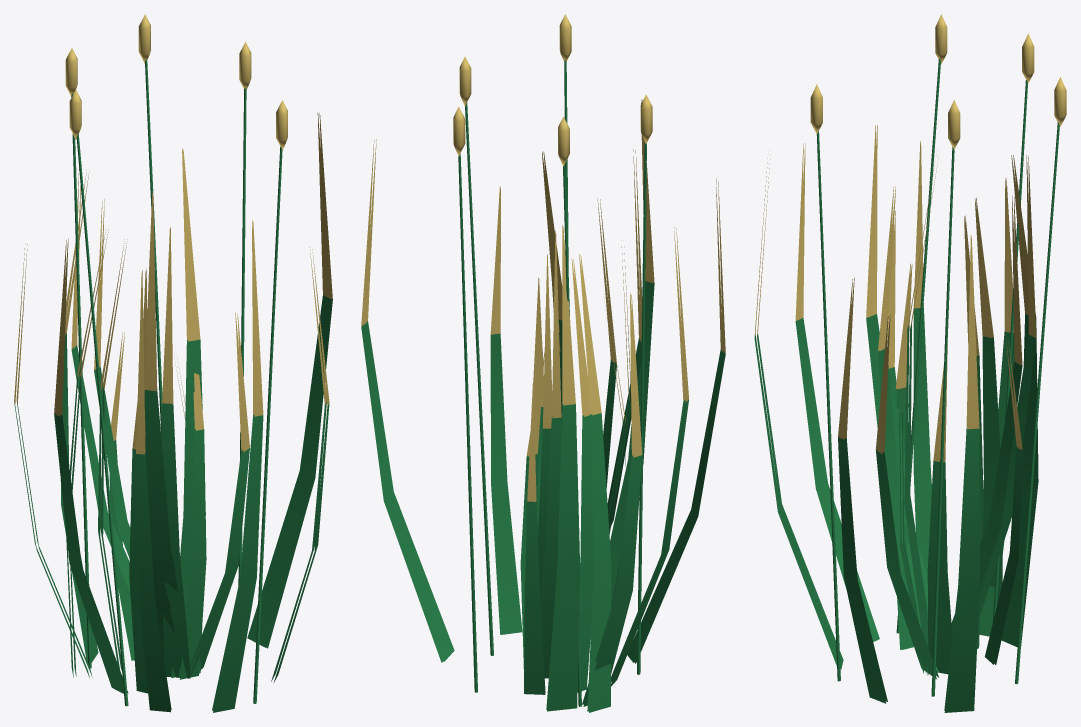
Rendered from flora_grass_clump_b.gltf.
3 views of the same model, side by side, from view 1: azimuth 30°, elevation 25°; view 2: azimuth 150°, elevation 25°; view 3: azimuth 270°, elevation 25° (orthographic).
Parts seen in each view (by area): view 1: flora_grass_clump_b; view 2: flora_grass_clump_b; view 3: flora_grass_clump_b.
Part boxes in pixels (x1=…): flora_grass_clump_b: x1=14, y1=14, x2=332, y2=712; flora_grass_clump_b: x1=361, y1=14, x2=725, y2=712; flora_grass_clump_b: x1=754, y1=14, x2=1066, y2=712.
Size of what is drawn, in the model's own units: 0.3716 by 0.7181 by 0.3355.
